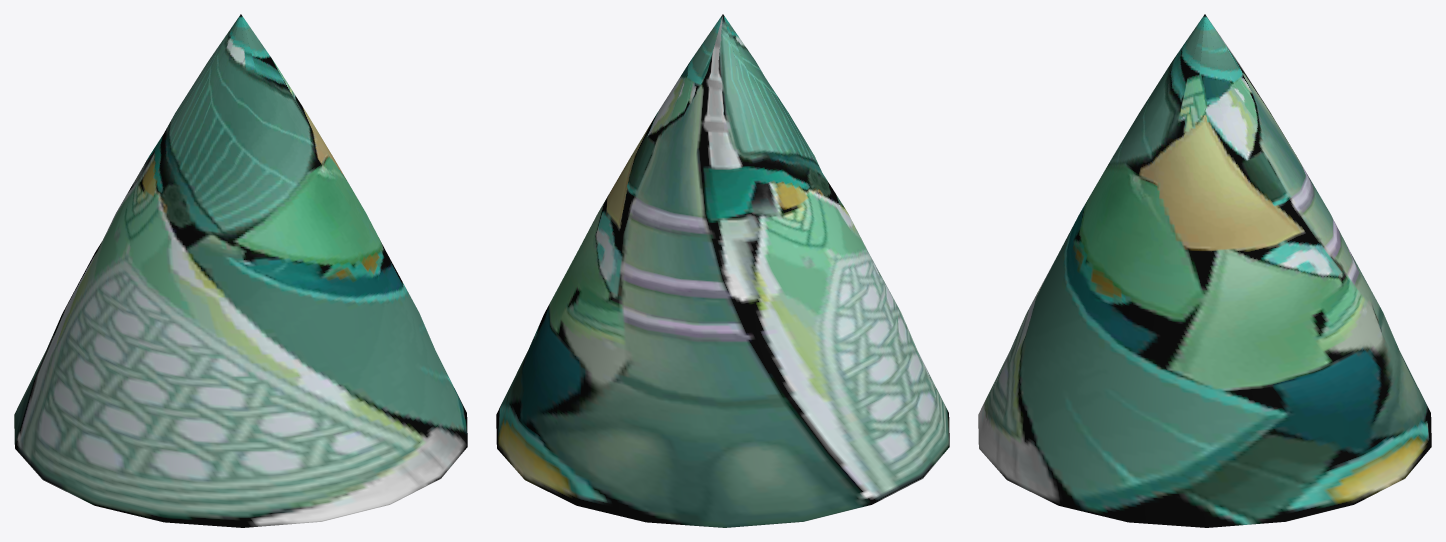
The model's file is 0447_tiehuohuiye_circle01.glb.
3 views of the same model, side by side, from view 1: azimuth 30°, elevation 25°; view 2: azimuth 150°, elevation 25°; view 3: azimuth 270°, elevation 25° (orthographic).
Bounding box in the file's own units: 2.2 × 2.2 × 2.17.
Materials: 1 (1 with a texture image).
